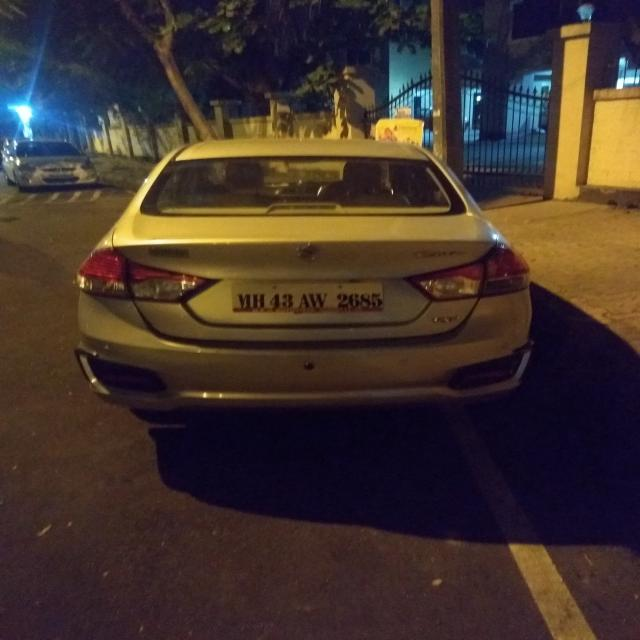Number-Plate: (235, 278, 386, 319)
